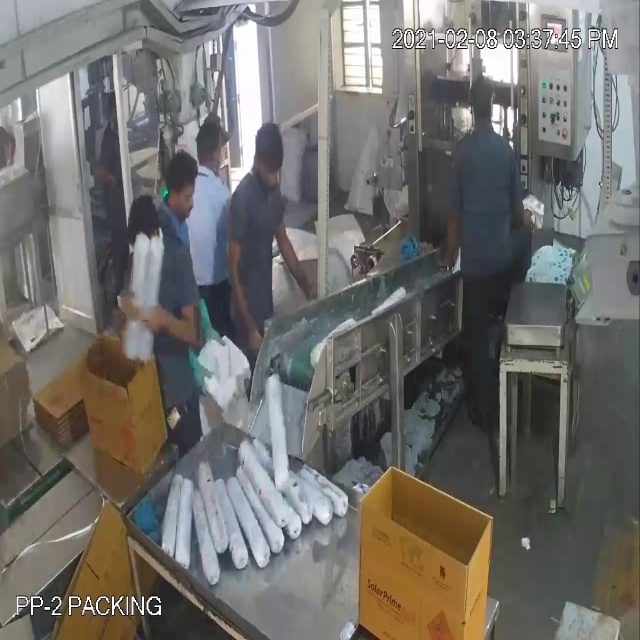Sin_guantes: (223, 228, 268, 356), (275, 216, 322, 318), (144, 294, 210, 359)
